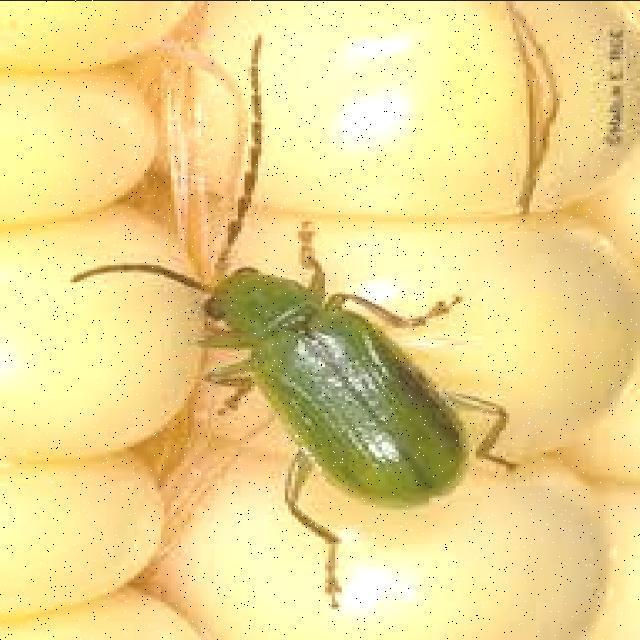gusano_gris: (71, 31, 514, 608)
